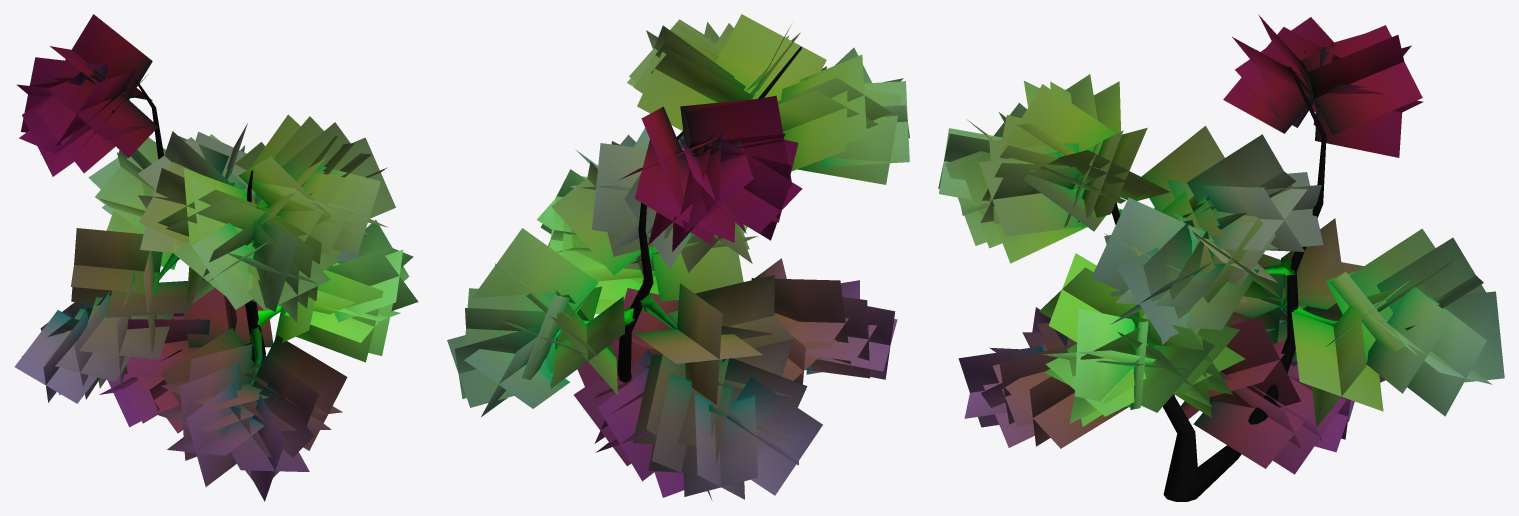
Rendered from URP_P14_Tree_10_LOD_2.fbx.
3 renders of one model, left to right at view 1: azimuth 30°, elevation 25°; view 2: azimuth 150°, elevation 25°; view 3: azimuth 270°, elevation 25°, orthographic. The views are drawn at different scales.
Visible parts, largest first — view 1: Tree_10_LOD_2; view 2: Tree_10_LOD_2; view 3: Tree_10_LOD_2.
Boxes of the visible parts, bbox=[...] form: Tree_10_LOD_2: bbox=[14, 14, 418, 501]; Tree_10_LOD_2: bbox=[447, 14, 909, 500]; Tree_10_LOD_2: bbox=[938, 14, 1504, 501].
Bounding box in the file's own units: 408 × 467 × 563.
